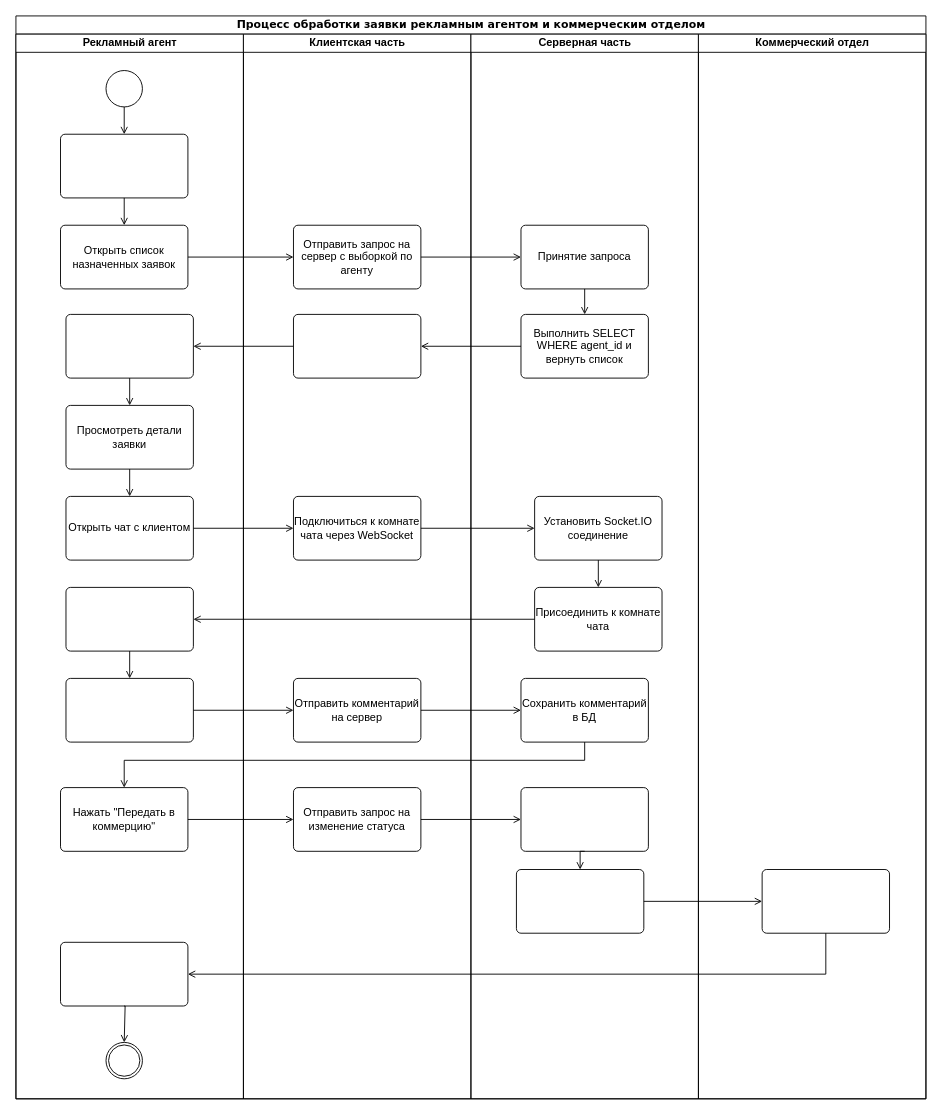
The diagram is 942 pixels wide and 1115 high, and some of its shapes have lost their labels. Here are the shapes that lost their labels. From the top down, the centre of each, then its label:
the point at 124,165: Войти в систему
the point at 129,345: Выбрать заявку со статусом in_progress
the point at 357,345: Отобразить таблицу с заявками
the point at 129,618: Согласовать детали размещения
the point at 129,709: Подготовить материалы и добавить комментарий
the point at 584,819: Обновить статус на ready_for_review
the point at 580,901: Создать уведомление для коммерческого отдела
the point at 825,901: Получить уведомление о новой заявке
the point at 124,973: Получить уведомление об одобрении и комиссии
